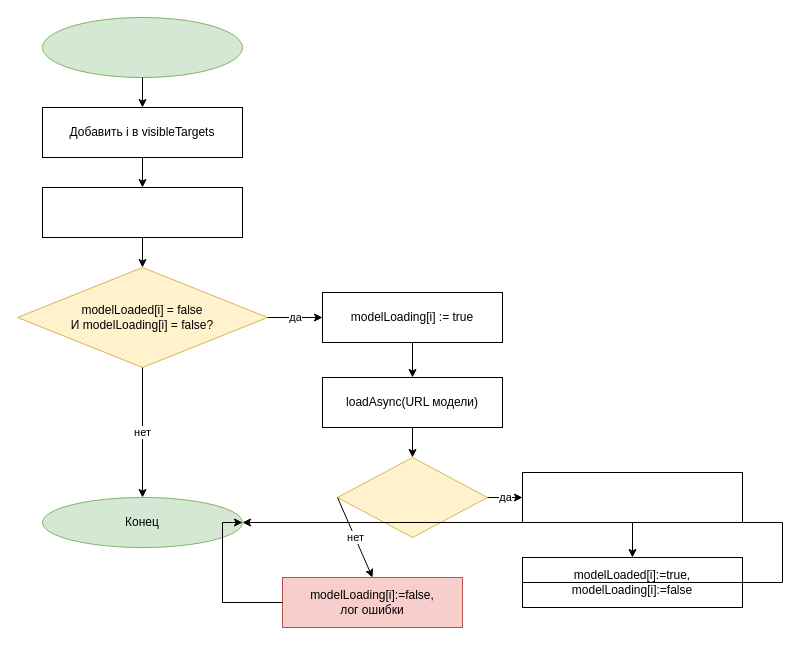
Image size: 808x645. Some labels were removed from this diagram. Here are the shapes that lost their labels. From the top down, the centre of each, then its label:
At point 142,47: "Начало: маркер i обнаружен (onTargetFound)".
At point 142,212: "Сбросить аудио, play()".
At point 412,497: "Успех?".
At point 632,497: "Масштаб, add в modelWrapper, AnimationMixer, клипы".
